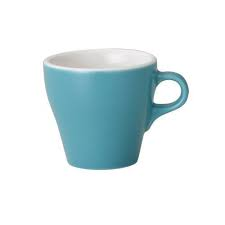cup: (39, 45, 197, 172)
